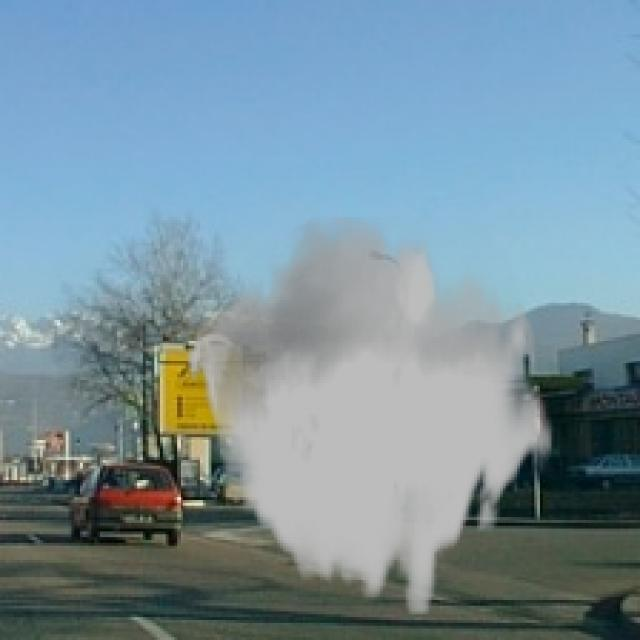Smoke: (186, 217, 554, 614)
